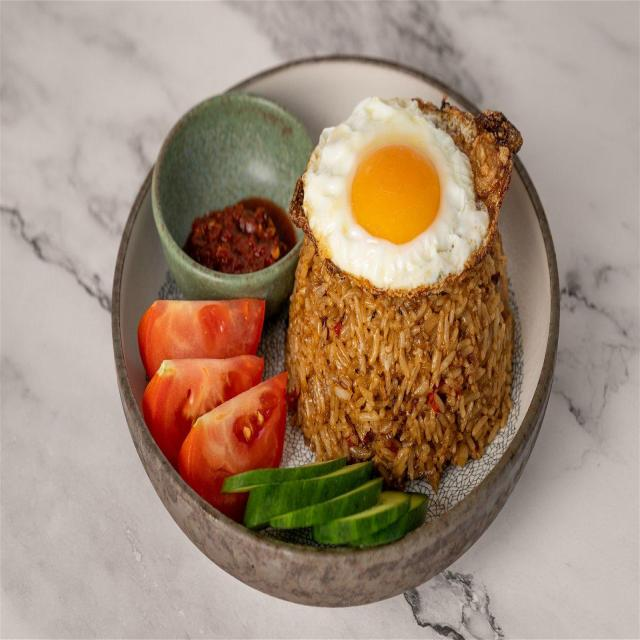Nasi Goreng: (290, 123, 521, 471)
